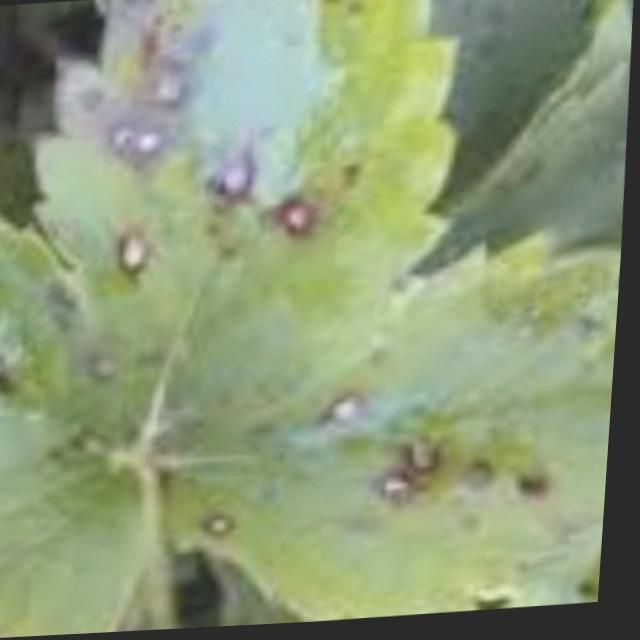Leaf Spot: (29, 0, 464, 471), (167, 230, 625, 626), (0, 217, 158, 639)
